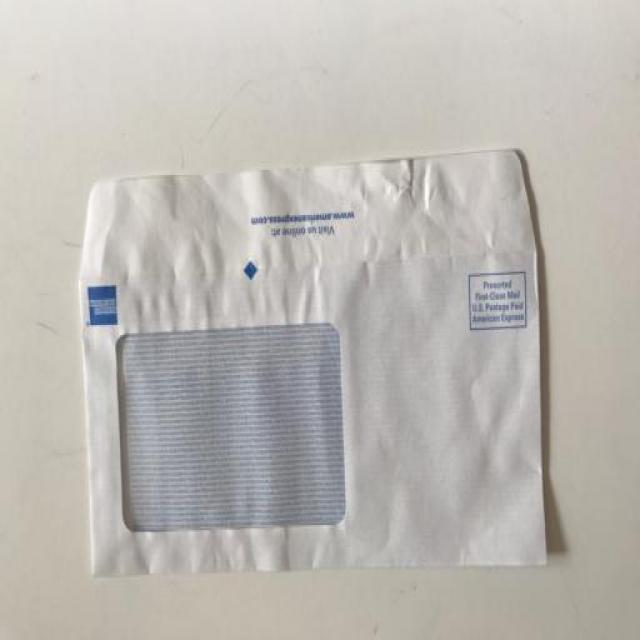paper: (84, 179, 550, 601)
